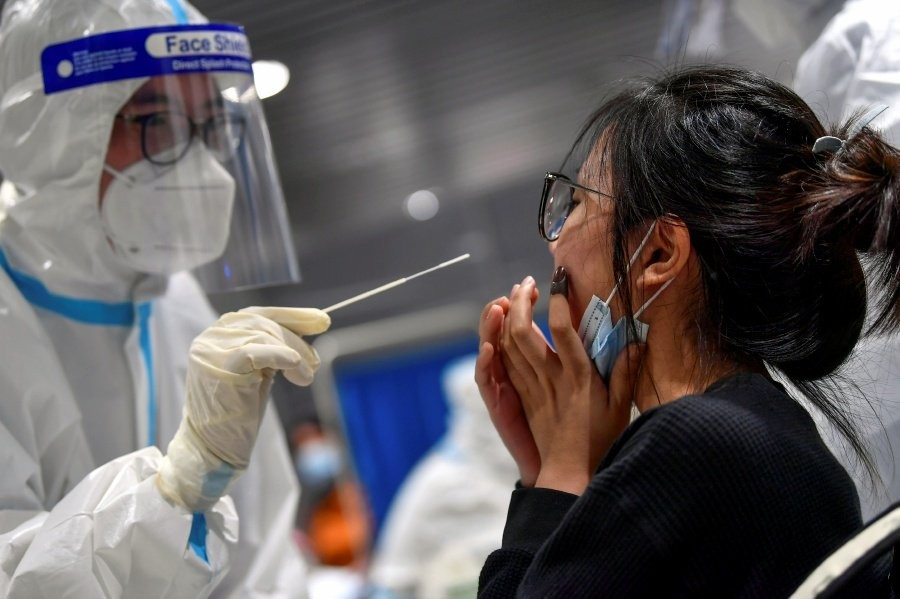Coverall: (1, 1, 296, 599)
Face_Shield: (43, 24, 274, 304)
Gloves: (163, 299, 341, 512)
mask_weared_incorrect: (533, 148, 636, 391)
with_mask: (116, 106, 231, 279)
